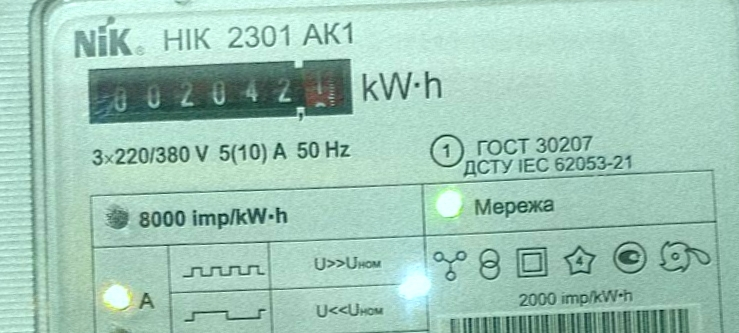0: (209, 74, 229, 105), (145, 78, 163, 110), (111, 81, 130, 111)
1: (311, 64, 327, 96)
2: (178, 77, 197, 107), (275, 72, 294, 102)
4: (242, 71, 262, 103)
screen: (83, 49, 360, 135)
